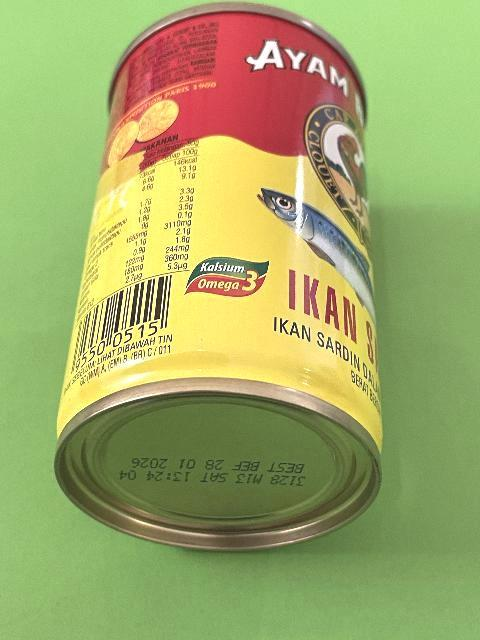foodcan: (52, 0, 384, 554)
